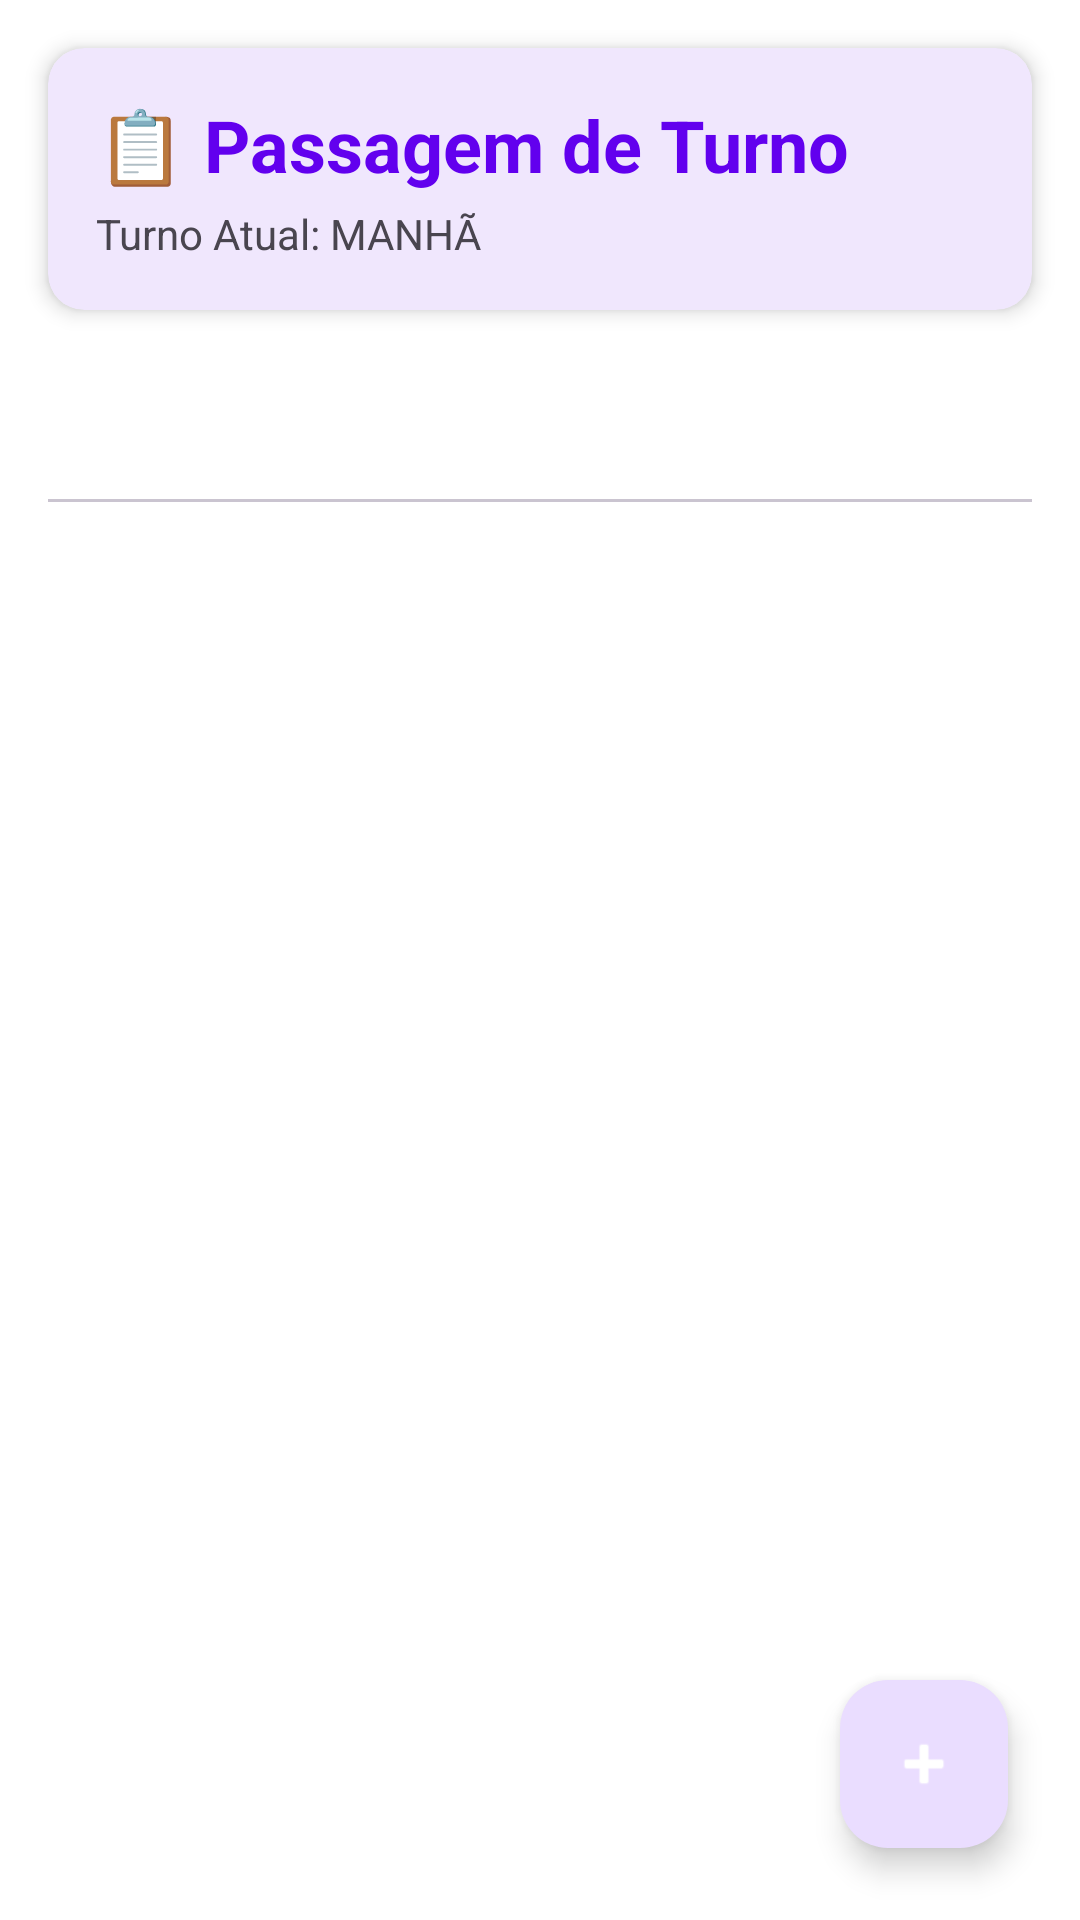

Where icons sit on this 1080*1920 app screen, as (left=x1, top=y1, right=x2, bottom=y2):
Nova passagem de turno: (left=840, top=1680, right=1008, bottom=1848)
